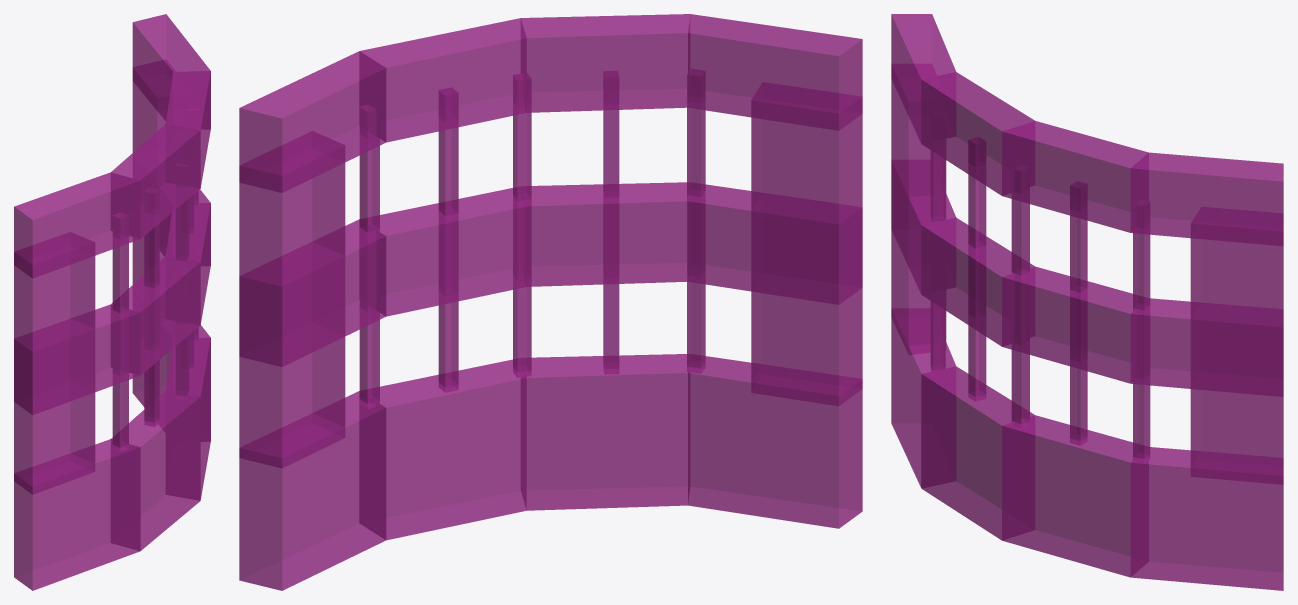
The model's file is SM_Bld_Deco_Wall_Window_06_Round_01_Collision.fbx.
3 views of the same model, side by side, from view 1: azimuth 30°, elevation 25°; view 2: azimuth 150°, elevation 25°; view 3: azimuth 270°, elevation 25° (orthographic). The views are drawn at different scales.
Visible parts, largest first — view 1: SM_Bld_Deco_Wall_Window_06_Round_01_Collision; view 2: SM_Bld_Deco_Wall_Window_06_Round_01_Collision; view 3: SM_Bld_Deco_Wall_Window_06_Round_01_Collision.
Boxes of the visible parts, x1=… form: SM_Bld_Deco_Wall_Window_06_Round_01_Collision: x1=14, y1=14, x2=210, y2=590; SM_Bld_Deco_Wall_Window_06_Round_01_Collision: x1=239, y1=14, x2=862, y2=590; SM_Bld_Deco_Wall_Window_06_Round_01_Collision: x1=891, y1=14, x2=1283, y2=590.
Size of the model in its own units: 268 by 305 by 265.
